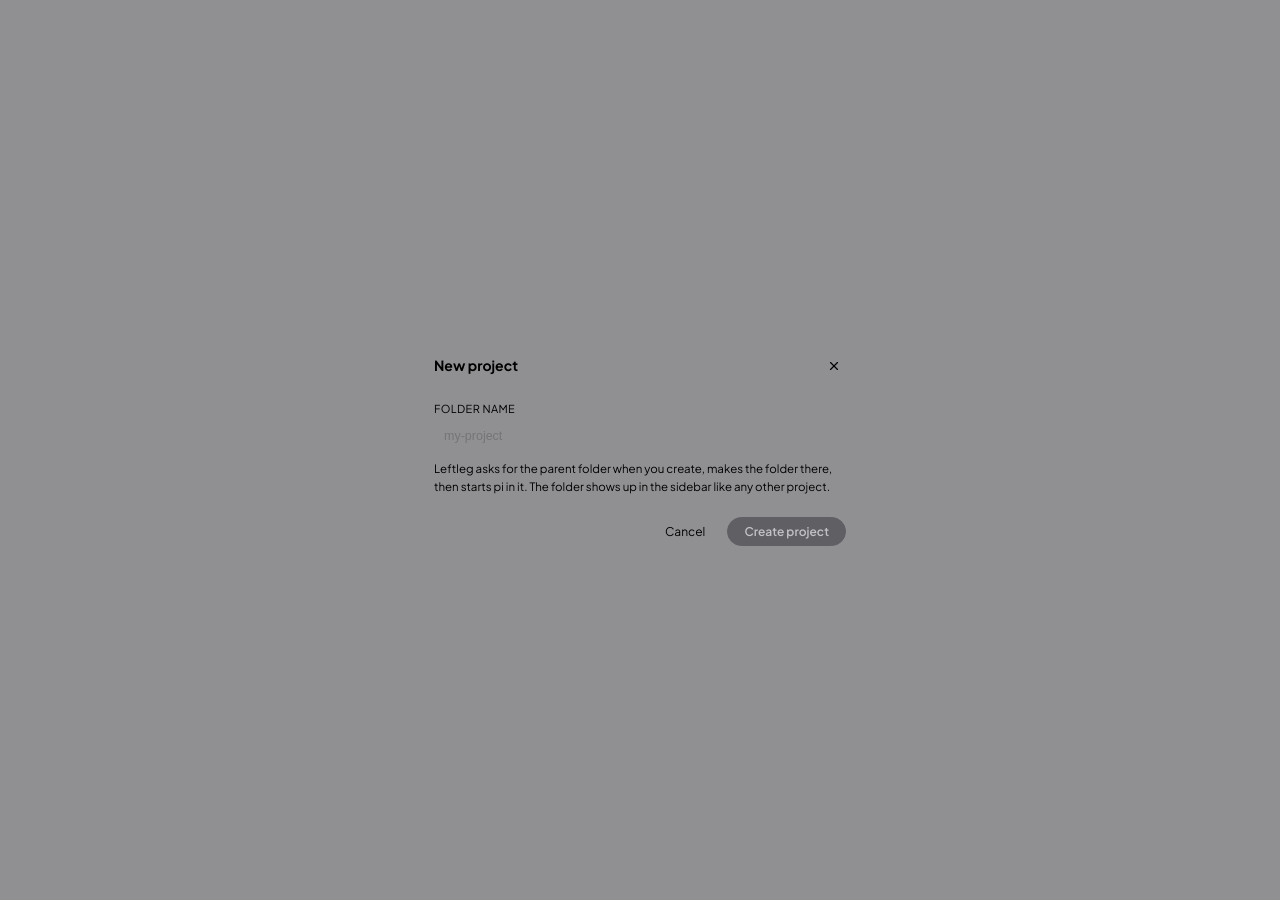
shows a failed creation as an inline error
The width and height of the screenshot is (1280, 900).
Type "new-project" into the field labelled "Folder name".
click(640, 436); type("new-project")  # box [434,422,846,450]
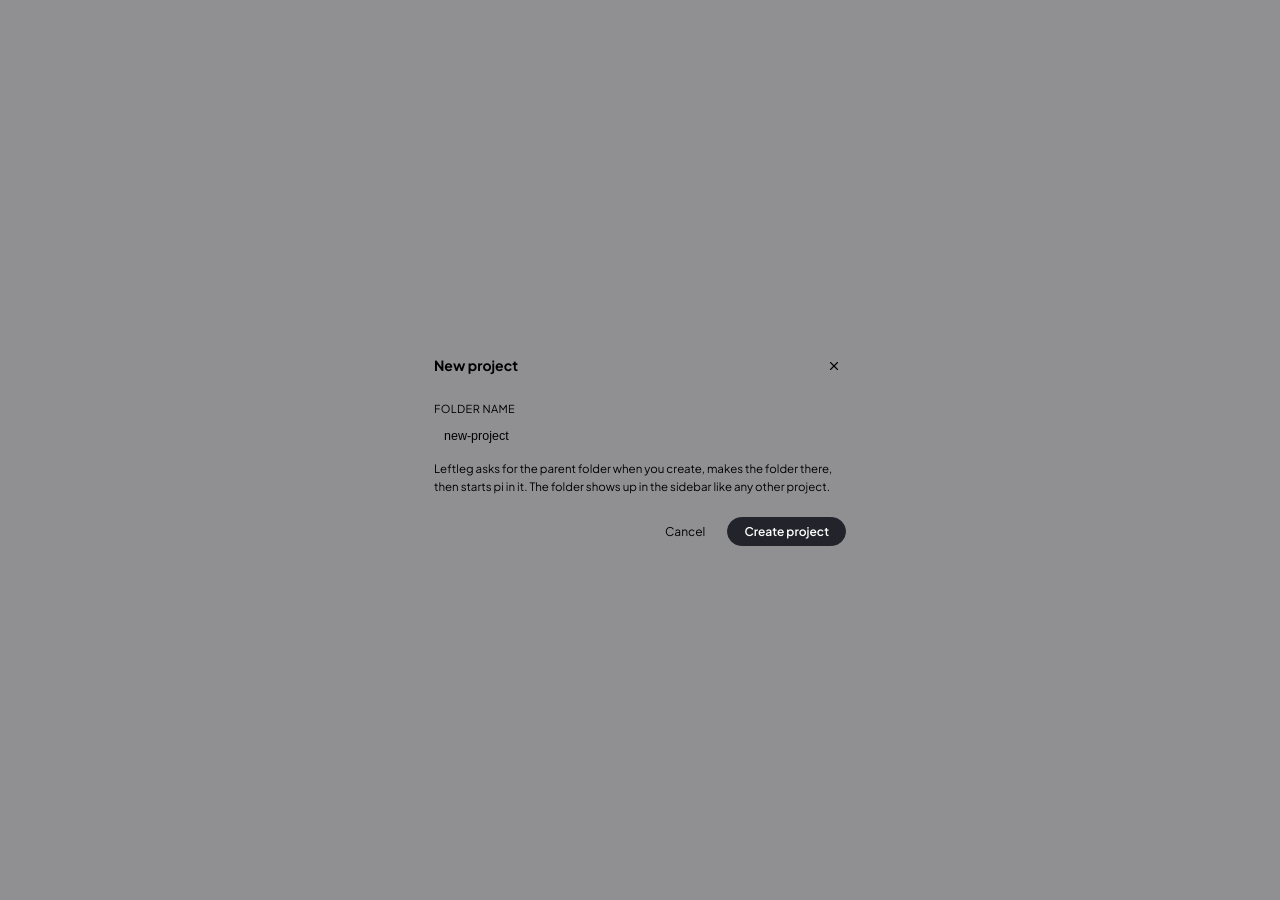
Click the button "Create project".
click(787, 532)  # box [727,517,846,546]
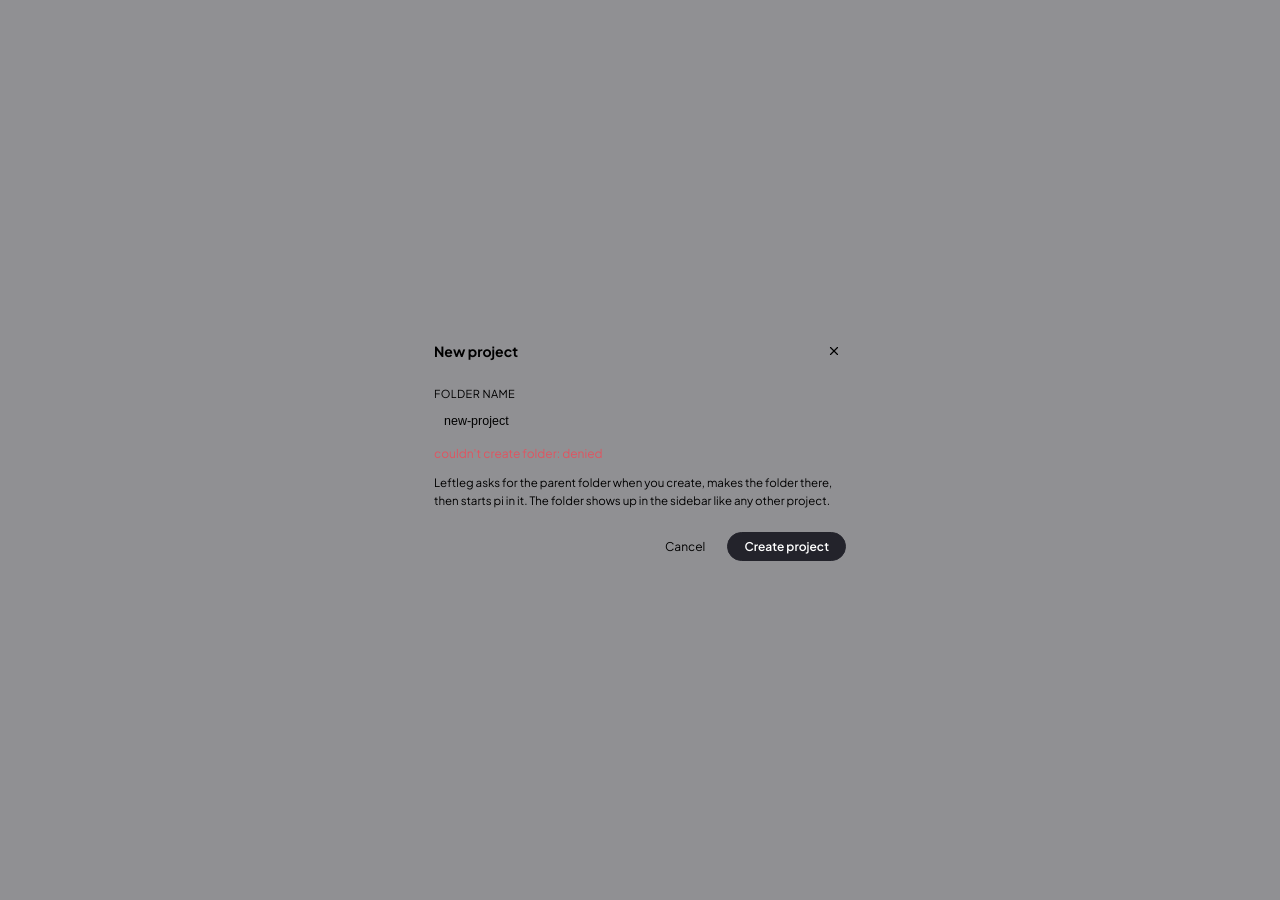
Result: the text with class "error" shows "couldn't create folder" at [434,446,603,461]
